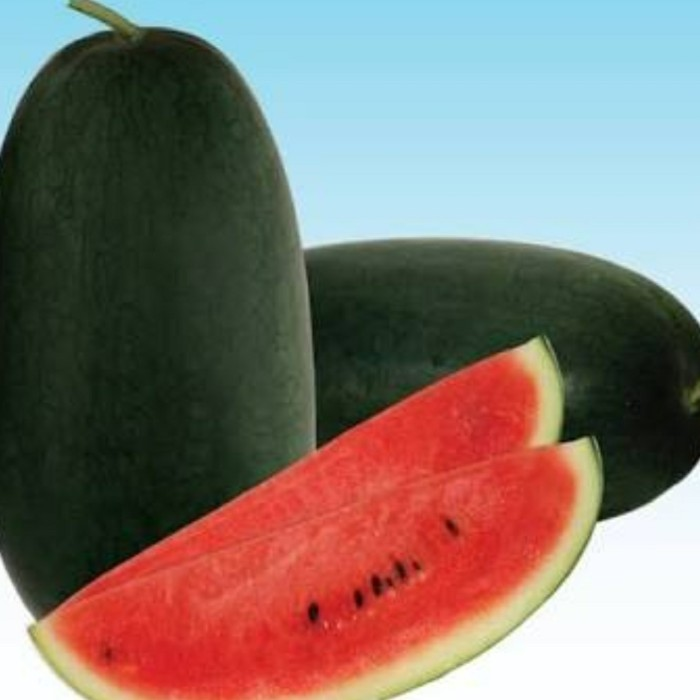Semangka: (48, 419, 617, 700)
